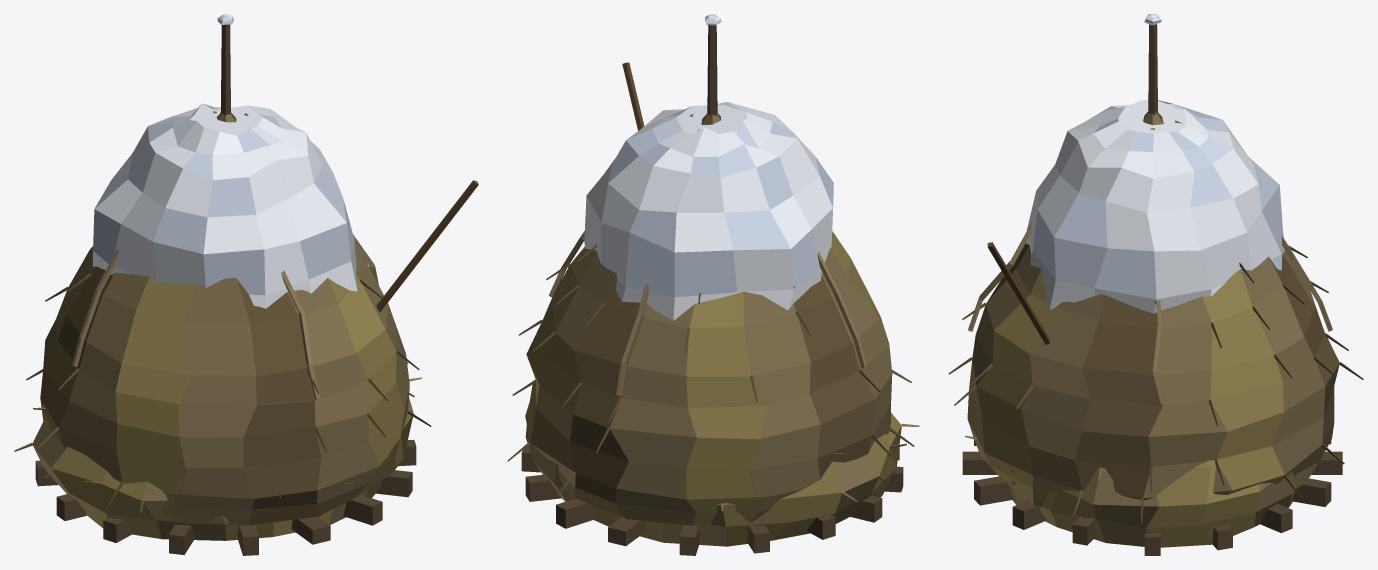
File: fuellung_heuschober.glb
3 renders of one model, left to right at view 1: azimuth 30°, elevation 25°; view 2: azimuth 150°, elevation 25°; view 3: azimuth 270°, elevation 25°, orthographic.
Visible parts, largest first — view 1: Strohmiete, Strohmiete_Winter, Heuhaufen; view 2: Strohmiete, Strohmiete_Winter, Heuhaufen; view 3: Strohmiete, Strohmiete_Winter, Heuhaufen.
Part boxes in pixels (x1,y1,x2,y2): Strohmiete: (26,24,431,555); Strohmiete_Winter: (93,14,357,308); Heuhaufen: (14,180,478,540); Strohmiete: (507,25,914,555); Strohmiete_Winter: (584,14,833,320); Heuhaufen: (525,62,919,546); Strohmiete: (948,24,1363,555); Strohmiete_Winter: (1026,14,1284,313); Heuhaufen: (965,242,1296,547).
Bounding box in the file's own units: 2.89 × 3.48 × 2.84.
